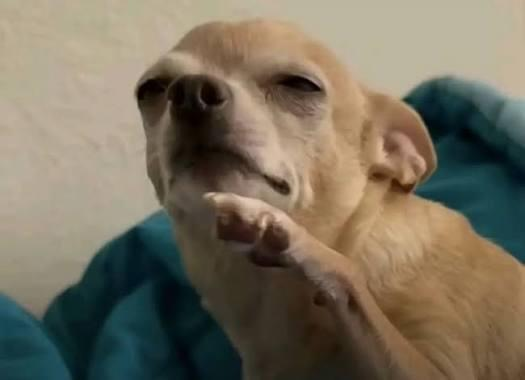adult_dog: (134, 15, 525, 380)
